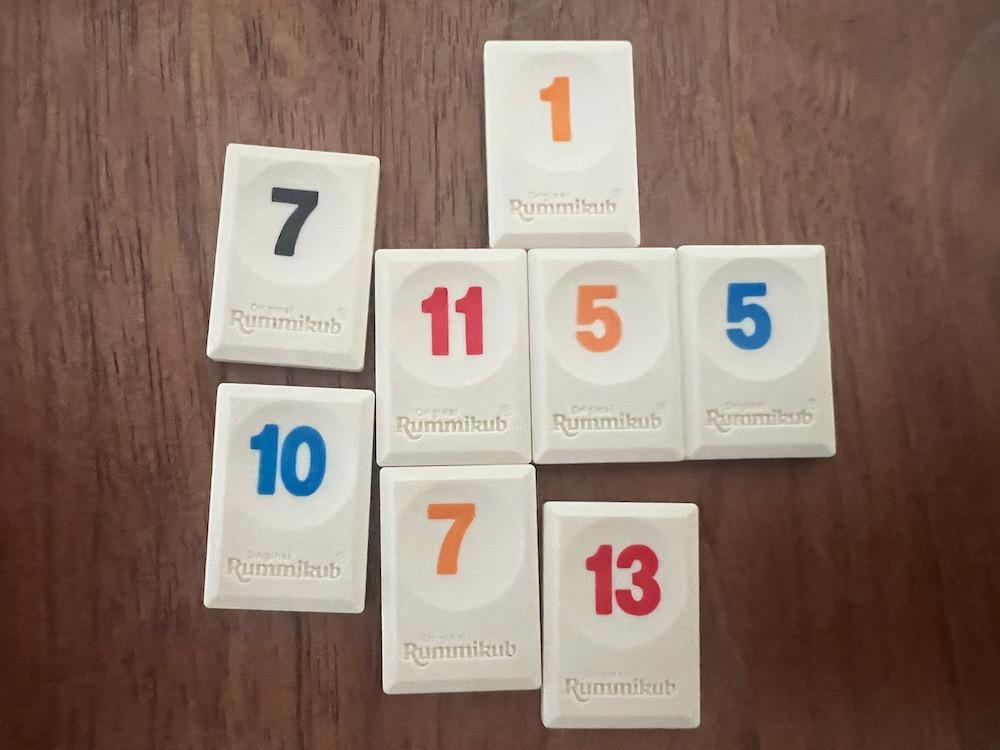black_7: (207, 145, 379, 371)
blue_10: (203, 383, 375, 613)
blue_5: (679, 248, 836, 459)
orange_1: (486, 42, 641, 248)
orange_5: (529, 251, 684, 461)
orange_7: (382, 465, 541, 693)
red_11: (375, 250, 531, 467)
red_13: (541, 502, 697, 727)
